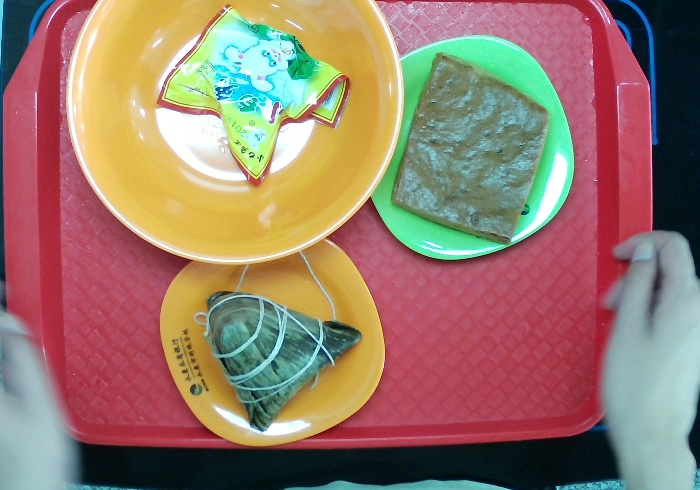YKMZ-Ju_Se_Fang_Die: (158, 239, 387, 450)
YKMZ-Ju_Se_Tang_Wan: (63, 1, 406, 269)
YKMZ-Lv_Se_Fang_Die: (369, 38, 577, 262)
